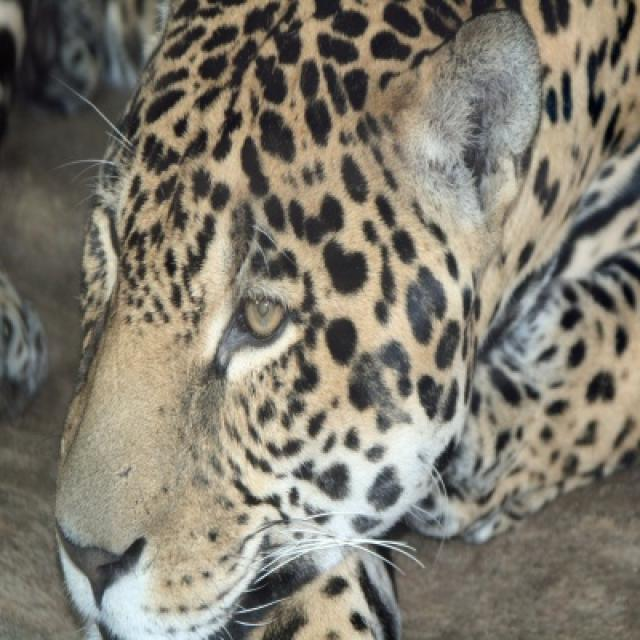Jaguar: (53, 0, 638, 638)
